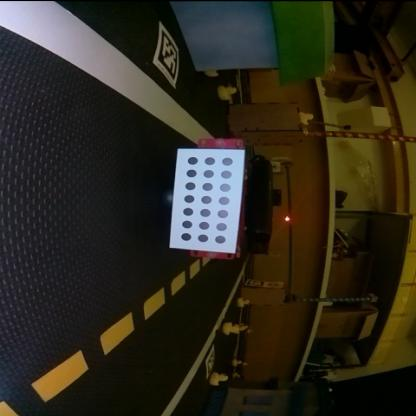Duckie: (218, 85, 236, 100), (212, 374, 230, 385), (224, 321, 238, 334), (300, 112, 314, 124), (238, 297, 250, 307), (235, 359, 243, 366)
Duckiebot: (169, 138, 275, 258)
QR code: (155, 24, 181, 86), (206, 346, 216, 372)
